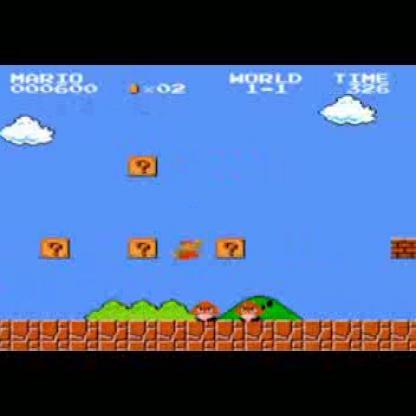Goomba: (234, 296, 268, 322), (191, 297, 221, 323)
